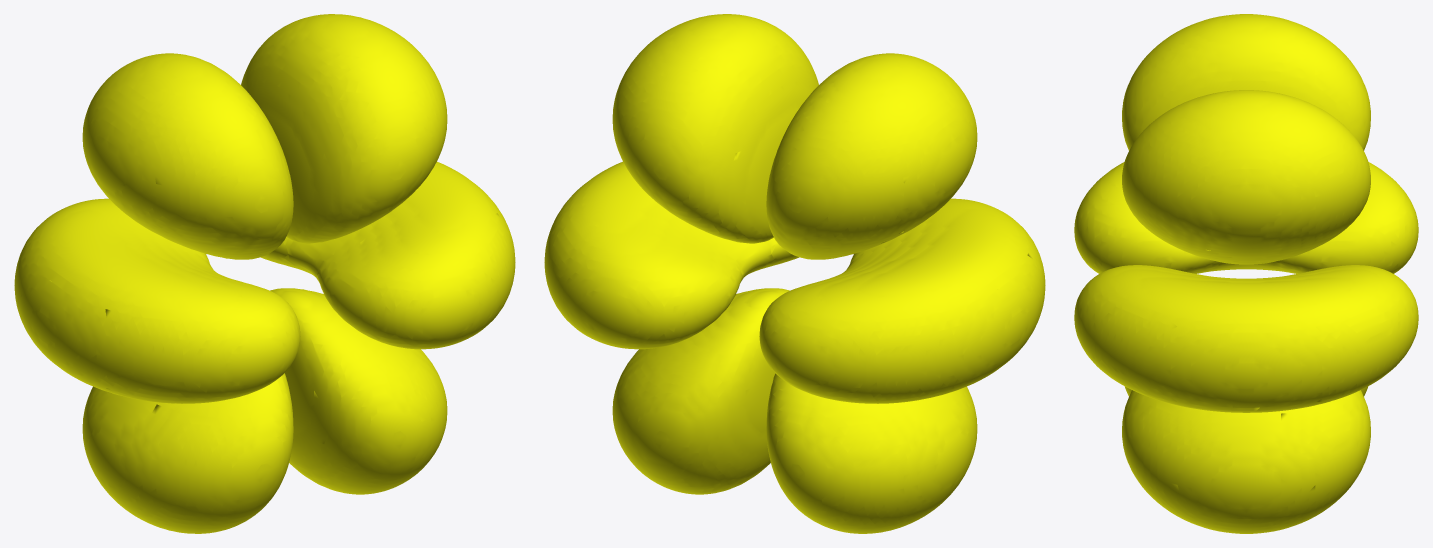
Rendered from orb_n=4_ l=3 _m=1.fbx.
The picture shows the model from 3 angles, left to right: view 1: azimuth 30°, elevation 25°; view 2: azimuth 150°, elevation 25°; view 3: azimuth 270°, elevation 25°; orthographic projection. The views are drawn at different scales.
Visible parts, largest first — view 1: orb_n=4_ l=3 _m=1; view 2: orb_n=4_ l=3 _m=1; view 3: orb_n=4_ l=3 _m=1.
Part boxes in pixels (box(x1,y1,x2,y2)): orb_n=4_ l=3 _m=1: box(14, 14, 515, 533); orb_n=4_ l=3 _m=1: box(544, 14, 1045, 533); orb_n=4_ l=3 _m=1: box(1074, 14, 1418, 533).
Size of the model in its own units: 6581 by 6410 by 4661.
